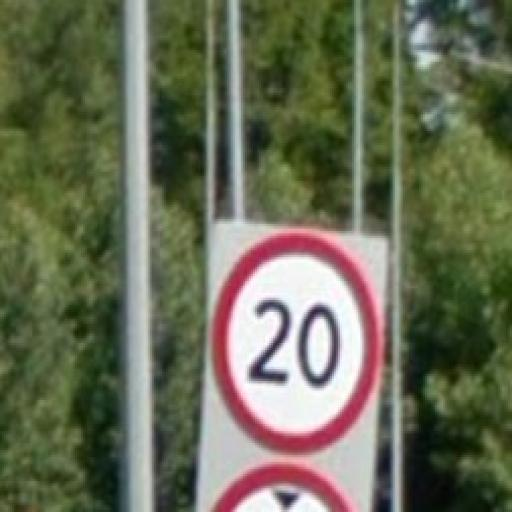traffic_sign: (214, 232, 380, 453)
